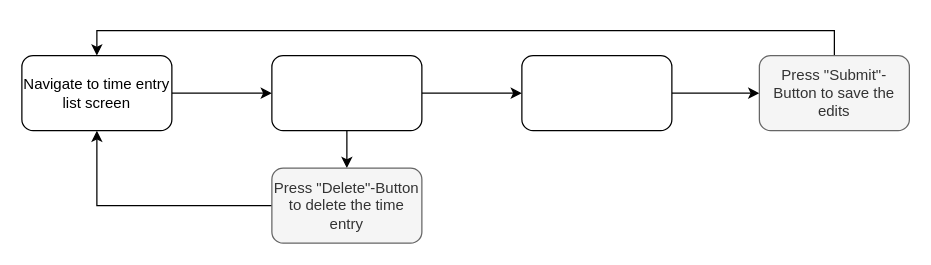
Some shapes in this 931 by 265 pixel diagram are drawn without their labels. The shapes that lost their labels are listed below. From the top down, each one's centre as x and y in pixels, then its label:
the point at 346,92: Click on time entry that should be edited / deleted
the point at 596,92: Edit time entry data
